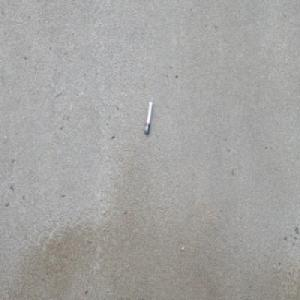Battery: (143, 100, 153, 135)
